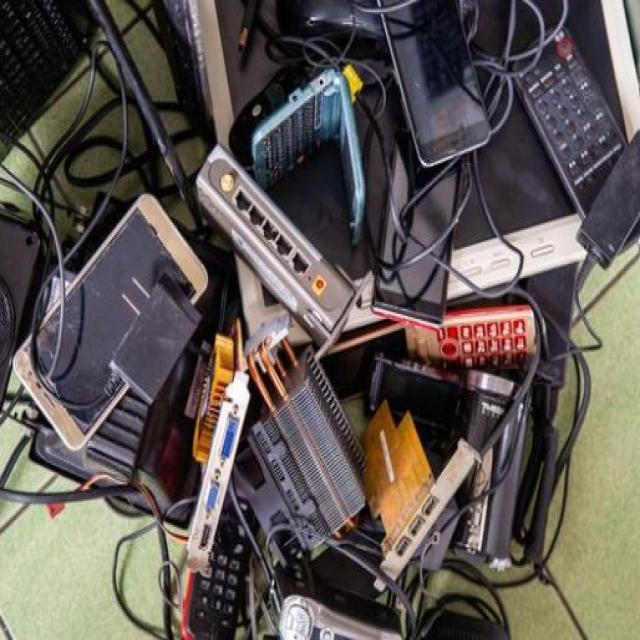electronic: (10, 147, 214, 521), (172, 124, 392, 355), (510, 1, 637, 240), (395, 252, 560, 395)
